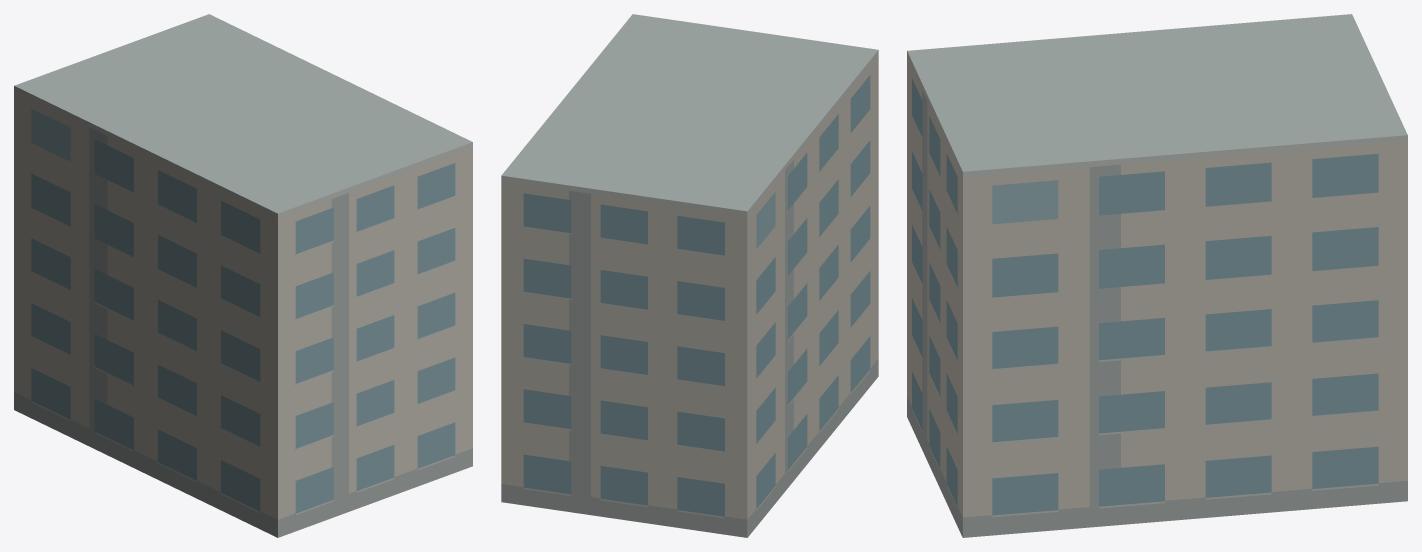
The model's file is residential-8cfe8993-9283-4080-b1ad-adb9621686e3.glb.
3 renders of one model, left to right at view 1: azimuth 30°, elevation 25°; view 2: azimuth 150°, elevation 25°; view 3: azimuth 270°, elevation 25°, orthographic. The views are drawn at different scales.
Visible parts, largest first — view 1: residential-8cfe8993-9283-4080-b1ad-adb9621686e3.tmp; view 2: residential-8cfe8993-9283-4080-b1ad-adb9621686e3.tmp; view 3: residential-8cfe8993-9283-4080-b1ad-adb9621686e3.tmp.
Boxes of the visible parts, x1,y1,x2,y2 form: residential-8cfe8993-9283-4080-b1ad-adb9621686e3.tmp: (14,14,472,537); residential-8cfe8993-9283-4080-b1ad-adb9621686e3.tmp: (501,14,878,537); residential-8cfe8993-9283-4080-b1ad-adb9621686e3.tmp: (907,14,1407,537).
Bounding box in the file's own units: 14.11 × 15.25 × 18.91.
